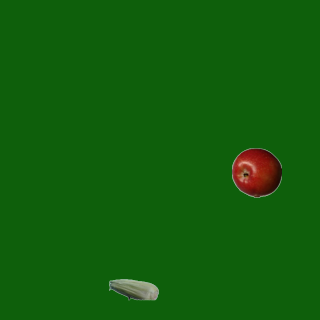Apple Braeburn: (231, 147, 281, 197)
Corn Husk: (108, 264, 158, 314)
